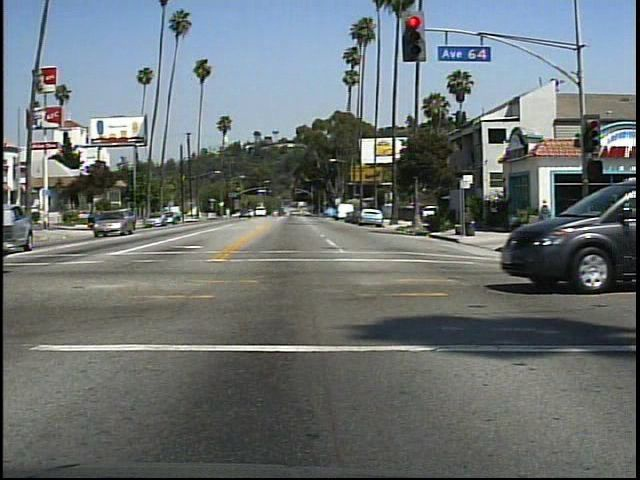person: (535, 194, 561, 224)
